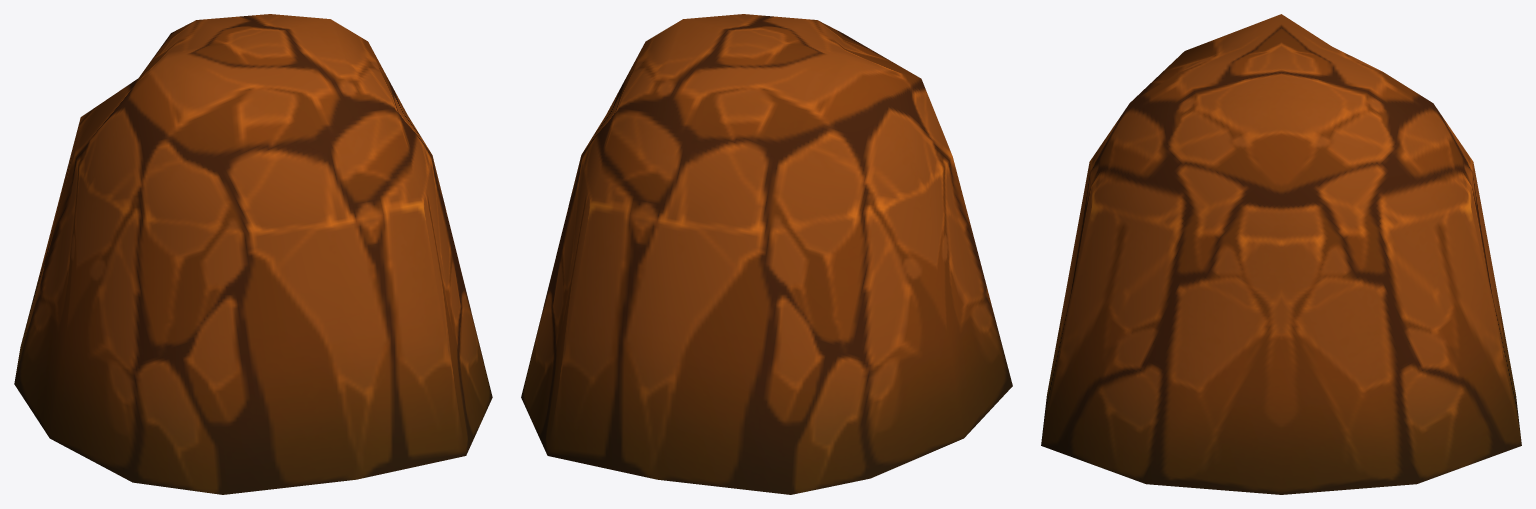
Rendered from Rock_01.FBX.
3 renders of one model, left to right at view 1: azimuth 30°, elevation 25°; view 2: azimuth 150°, elevation 25°; view 3: azimuth 270°, elevation 25°, orthographic.
Visible parts, largest first — view 1: Rock_01; view 2: Rock_01; view 3: Rock_01.
Part boxes in pixels (x1,y1,x2,y2): Rock_01: (14, 14, 492, 494); Rock_01: (521, 14, 1012, 494); Rock_01: (1041, 14, 1521, 494).
Bounding box in the file's own units: 200 × 169 × 213.
